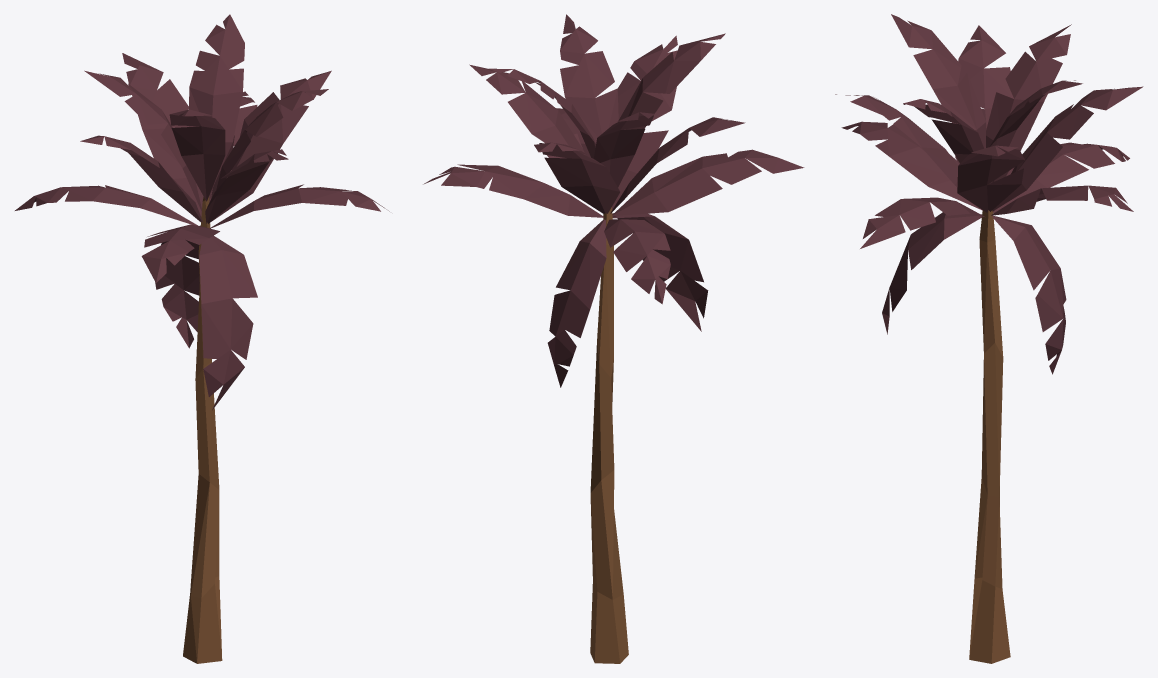
File: palm-high.fbx
3 renders of one model, left to right at view 1: azimuth 30°, elevation 25°; view 2: azimuth 150°, elevation 25°; view 3: azimuth 270°, elevation 25°, orthographic. The views are drawn at different scales.
Parts seen in each view (by area): view 1: palm-high; view 2: palm-high; view 3: palm-high.
Part boxes in pixels (left/top/right/bottom): palm-high: left=15, top=14, right=389, bottom=663; palm-high: left=423, top=14, right=804, bottom=663; palm-high: left=835, top=14, right=1143, bottom=663.
Bounding box in the file's own units: 5.81 × 12.54 × 5.81.
